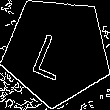L_NE: (33, 21, 80, 80)
